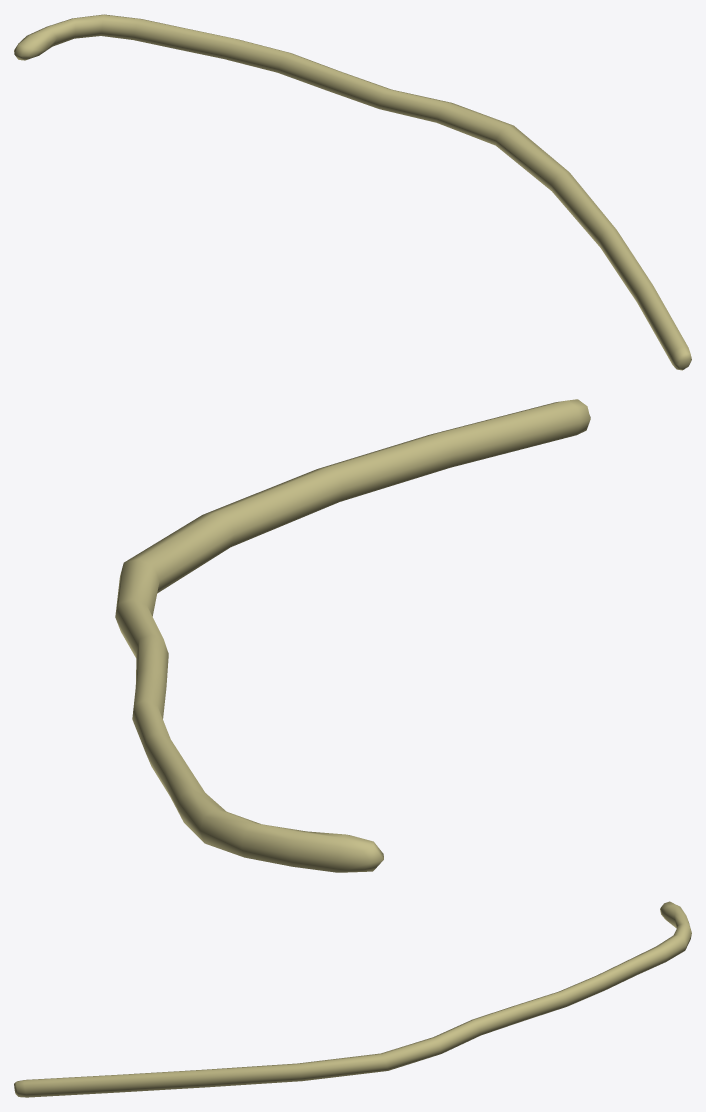
The model's file is Nerves_L1.FBX.
The picture shows the model from 3 angles, top to bottom: view 1: azimuth 30°, elevation 25°; view 2: azimuth 150°, elevation 25°; view 3: azimuth 270°, elevation 25°; orthographic projection. The views are drawn at different scales.
Visible parts, largest first — view 1: Nerves_L1; view 2: Nerves_L1; view 3: Nerves_L1.
Boxes of the visible parts, x1,y1,x2,y2 form: Nerves_L1: [14, 14, 691, 370]; Nerves_L1: [115, 399, 590, 872]; Nerves_L1: [14, 901, 691, 1097].
Bounding box in the file's own units: 0.0115 × 0.00356 × 0.0244.
